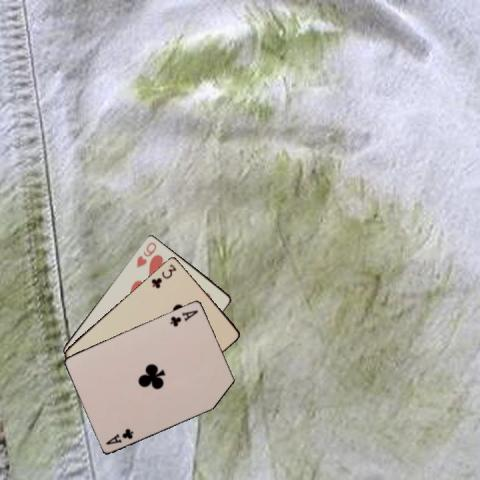3c: (149, 261, 178, 289)
9h: (133, 238, 158, 268)
Ac: (167, 307, 199, 328), (103, 425, 134, 446)
